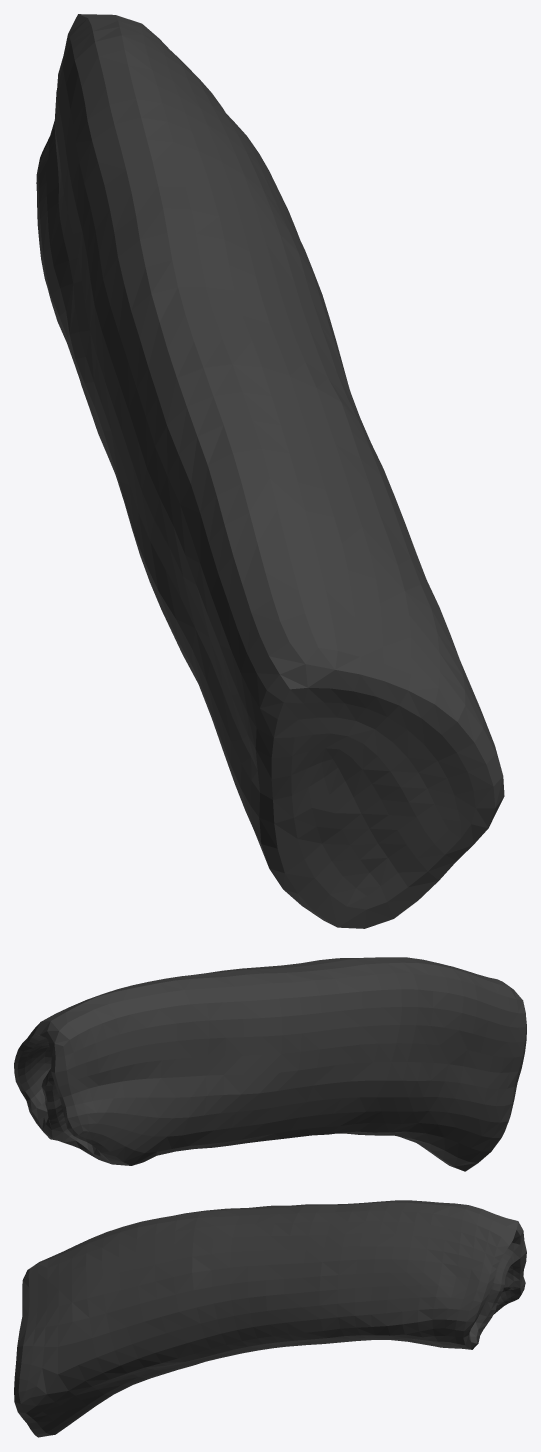
The picture shows the model from 3 angles, top to bottom: view 1: azimuth 30°, elevation 25°; view 2: azimuth 150°, elevation 25°; view 3: azimuth 270°, elevation 25°; orthographic projection. The views are drawn at different scales.
Parts seen in each view (by area): view 1: world; view 2: world; view 3: world.
Part boxes in pixels (left/top/right/bottom): world: left=36, top=14, right=504, bottom=928; world: left=14, top=957, right=526, bottom=1171; world: left=14, top=1200, right=526, bottom=1437.
Bounding box in the file's own units: 0.1769 × 0.219 × 0.3774.
Materials: 1 (1 with a texture image).
